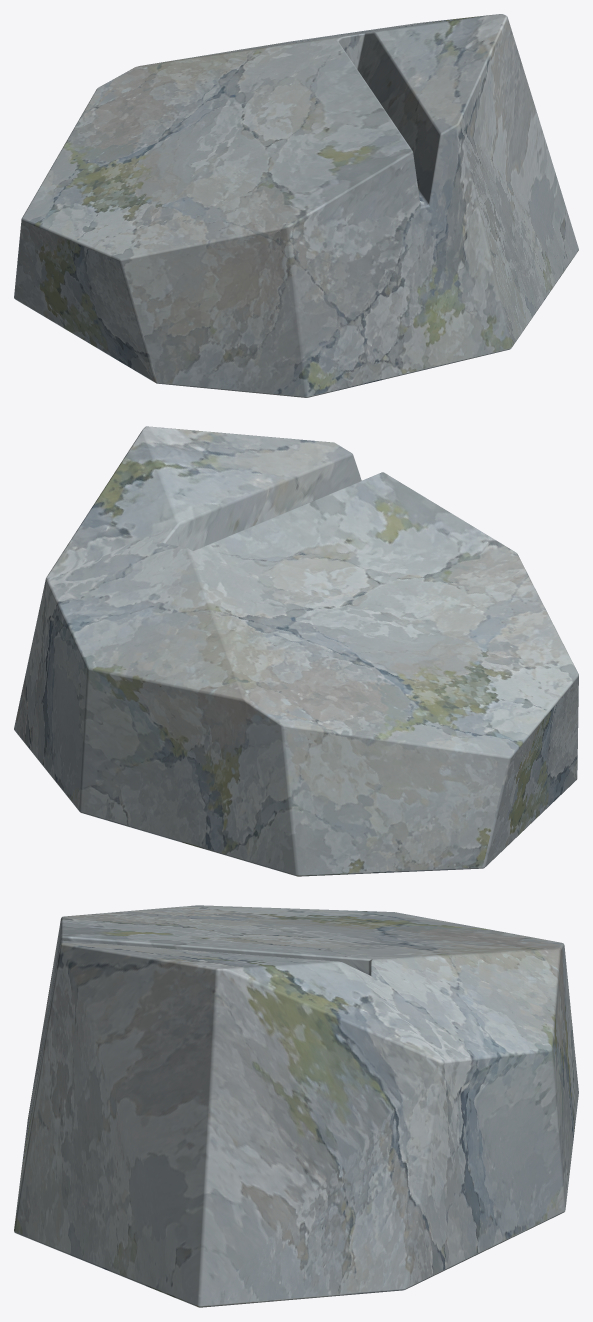
File: SM_FracturedForestRock_02.fbx
3 views of the same model, one above another, from view 1: azimuth 30°, elevation 25°; view 2: azimuth 150°, elevation 25°; view 3: azimuth 270°, elevation 25° (orthographic). The views are drawn at different scales.
Visible parts, largest first — view 1: SM_FracturedForestRock_02; view 2: SM_FracturedForestRock_02; view 3: SM_FracturedForestRock_02.
Boxes of the visible parts, x1,y1,x2,y2 form: SM_FracturedForestRock_02: (14, 14, 578, 397); SM_FracturedForestRock_02: (14, 426, 578, 876); SM_FracturedForestRock_02: (14, 905, 578, 1307).
Bounding box in the file's own units: 2.91 × 2.43 × 1.51.
